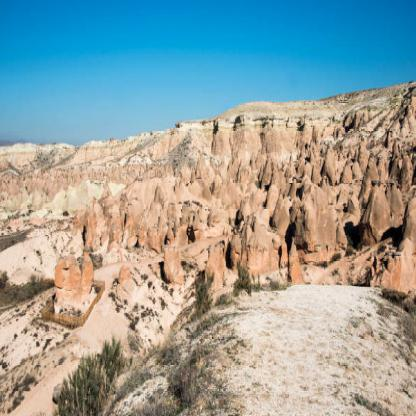Sedimentary_Sandstone: (294, 180, 349, 253), (240, 219, 284, 276), (362, 180, 393, 244), (160, 222, 186, 284)
